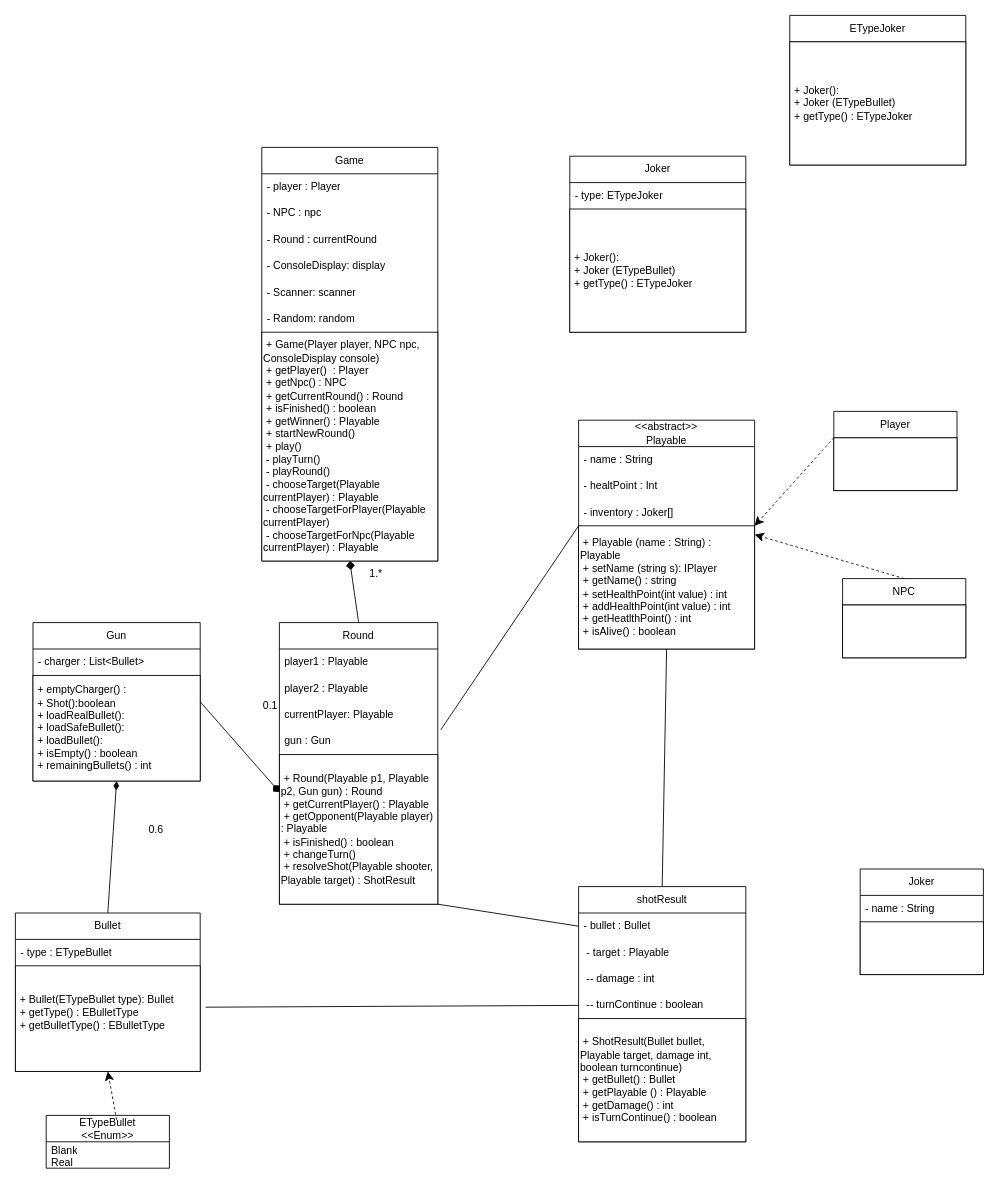
Some shapes in this 999 by 1184 pixel diagram are drawn without their labels. Each missing label, with the centre of its shape:
"+ NPC (String name)" goes at pixel 904 631.
"+ Player (String name)" goes at pixel 895 464.
"+ setName(string s) : Joker + getName(): string s" goes at pixel 921 948.
